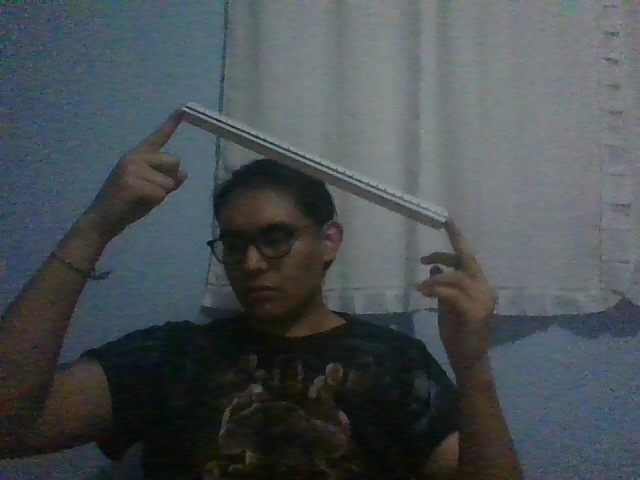regla: (180, 100, 449, 232)
